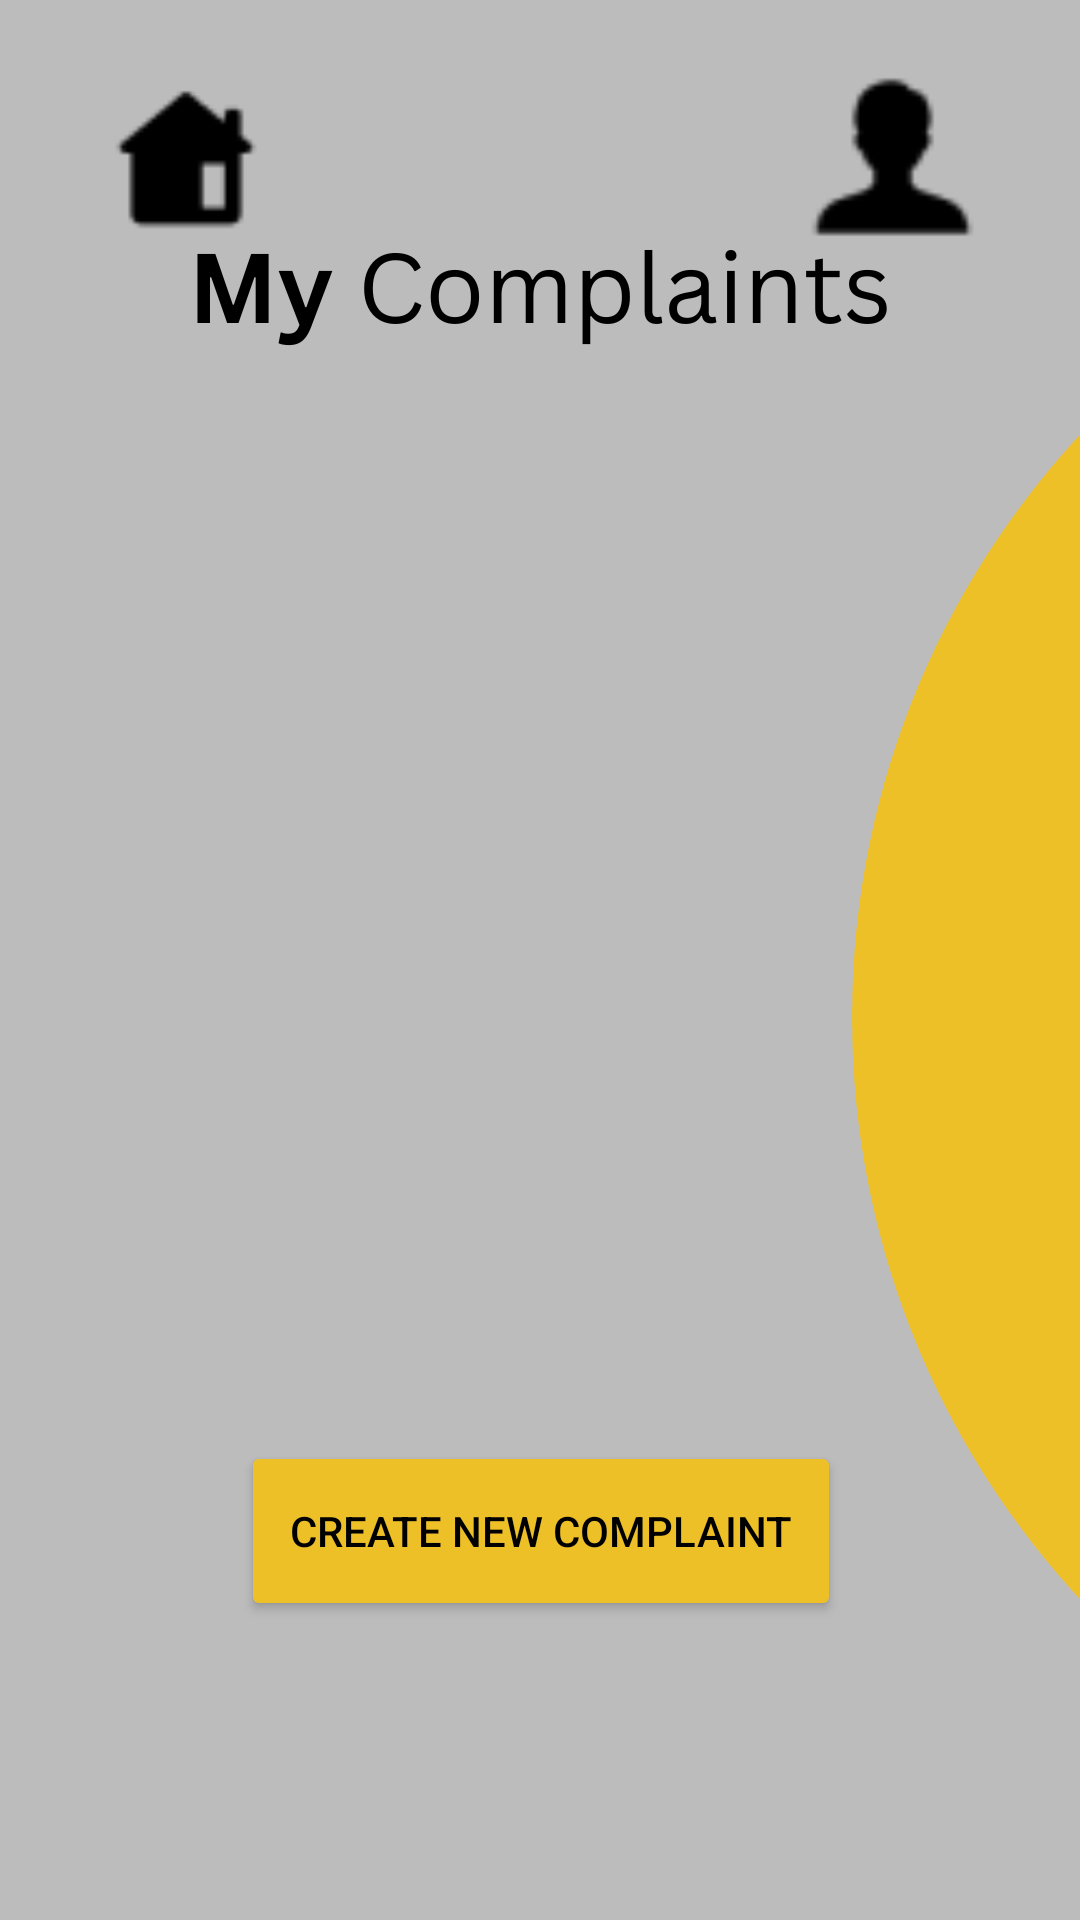

Screen size 1080px×1920px. Icon name, then its box in pixels as {"left": x1, "top": y1, "right": x2, "bottom": y2}:
home: {"left": 117, "top": 91, "right": 255, "bottom": 228}
user male: {"left": 814, "top": 78, "right": 971, "bottom": 236}
